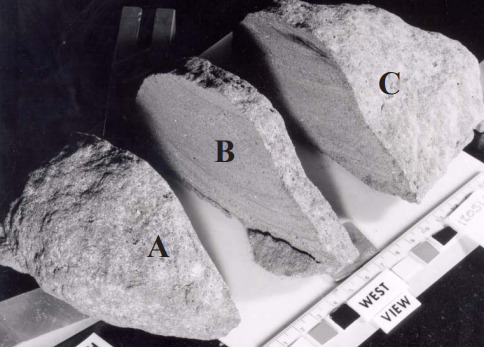Basalt: (132, 60, 350, 273), (230, 10, 477, 185), (37, 134, 219, 346)
